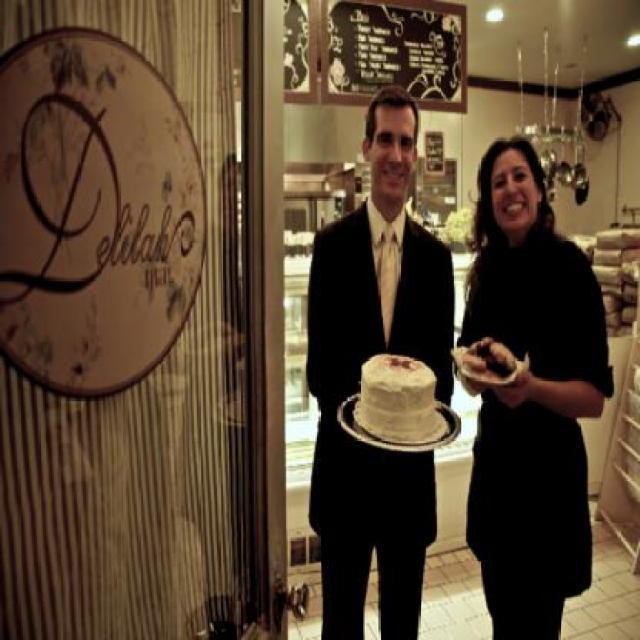Cake: (355, 353, 437, 442)
